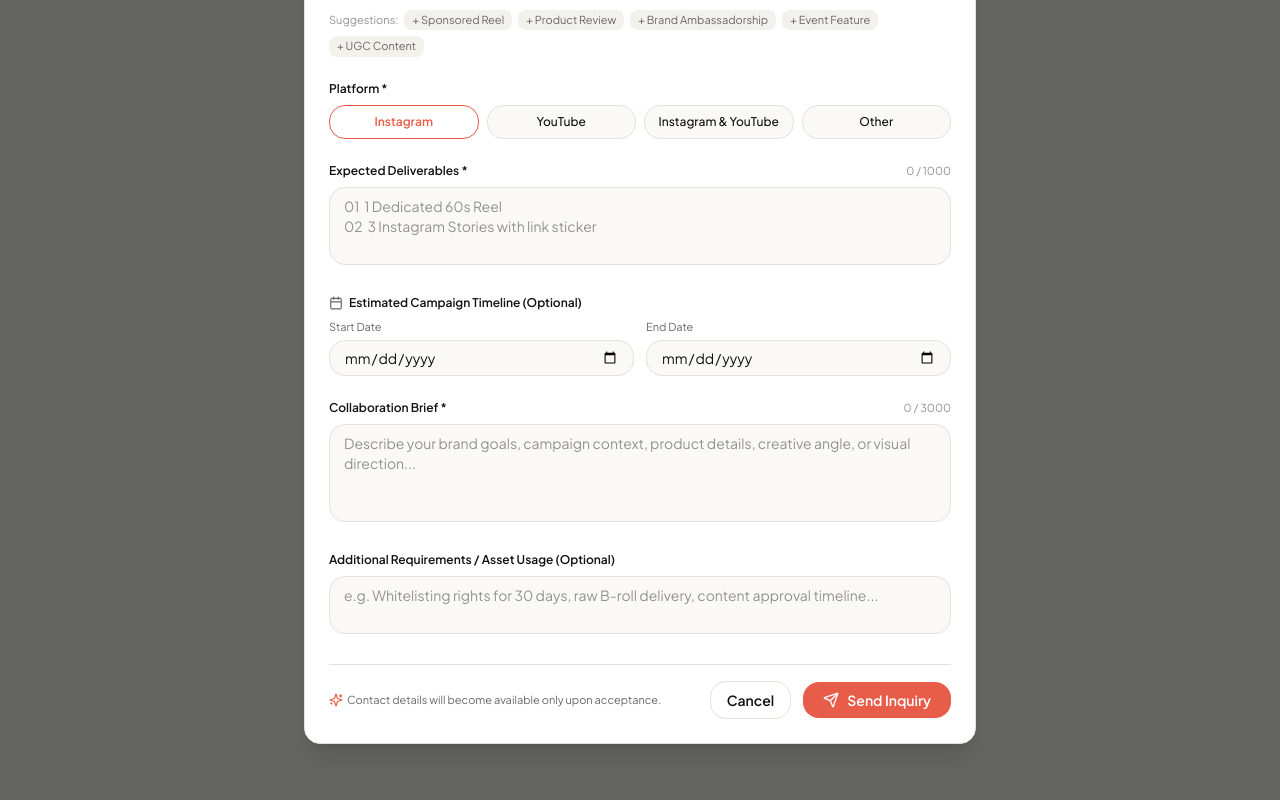
it: Phase 7B Frontend Inquiry Form Modal Test Suite › validates required fields and shows validation errors on empty submission
(page scrolled)
Click the button "Send Inquiry" at (877, 700), box [803,682,951,718]
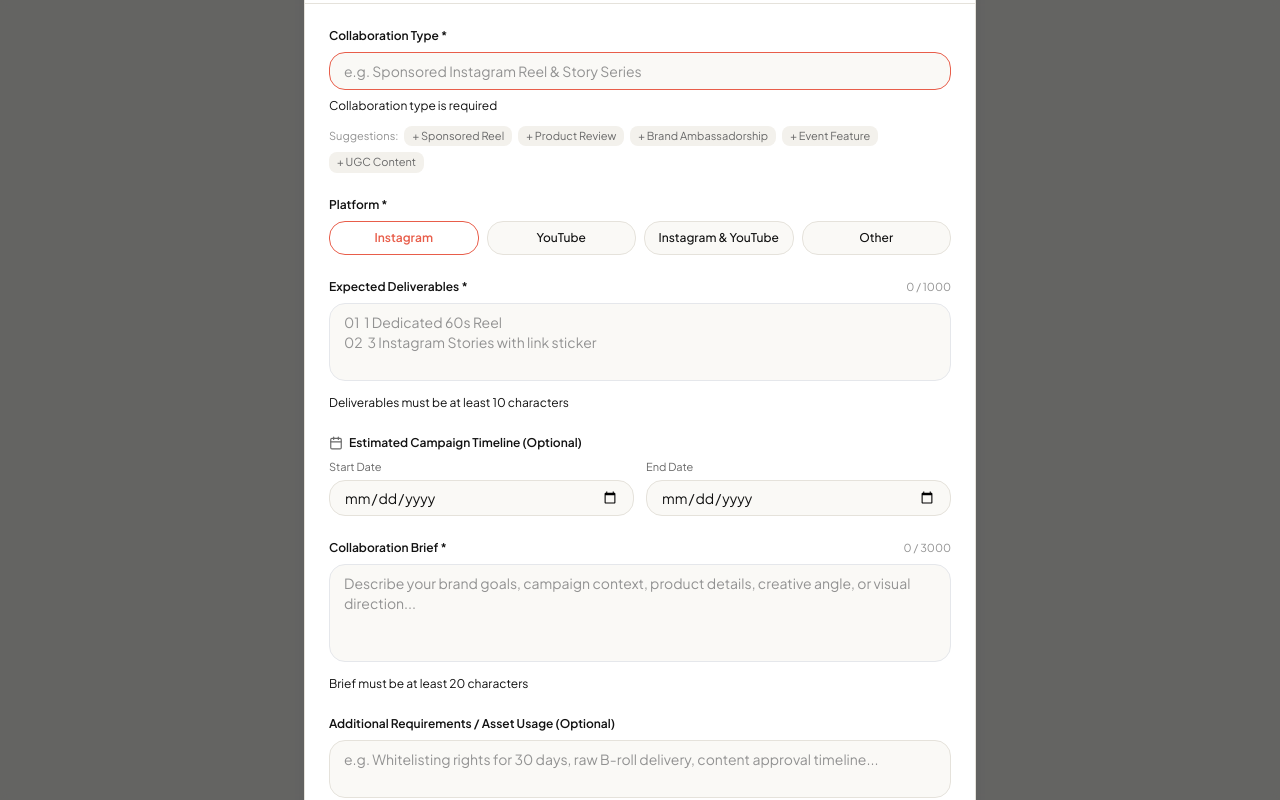
Check: the text "Collaboration type is required" is shown, box [329,98,497,113]
Check: the text "Deliverables must be at least 10 characters" is shown, box [329,395,569,410]
Check: the text "Brief must be at least 20 characters" is shown, box [329,676,528,691]
